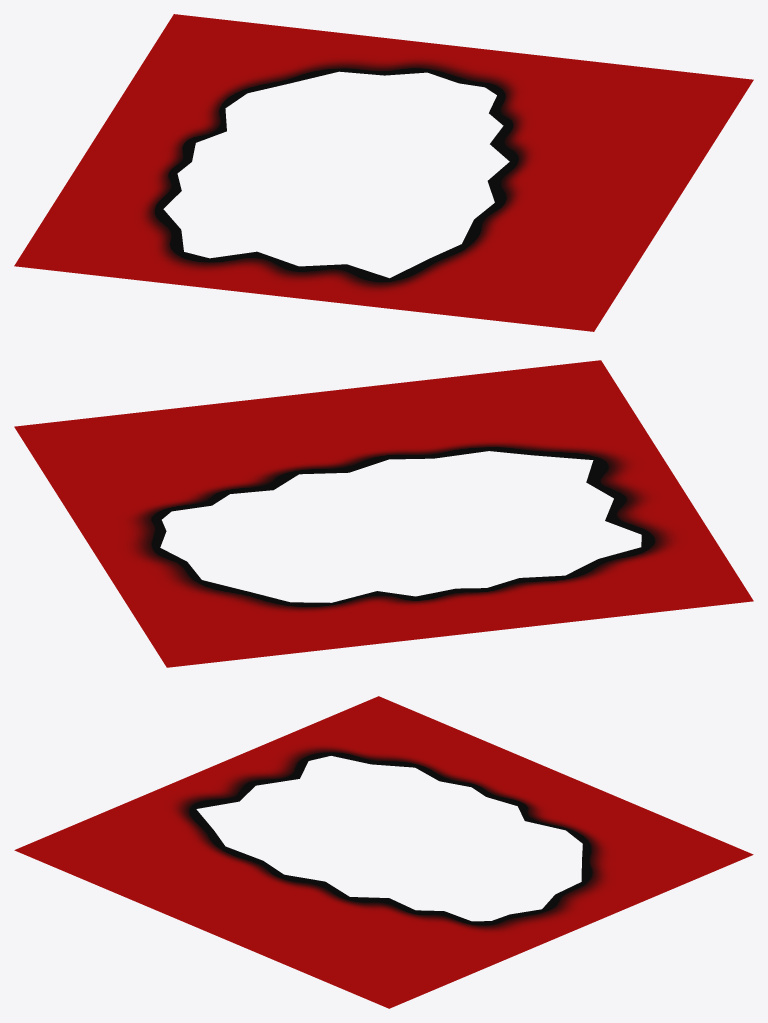
The model's file is Water Edge SDF.fbx.
The picture shows the model from 3 angles, top to bottom: view 1: azimuth 30°, elevation 25°; view 2: azimuth 150°, elevation 25°; view 3: azimuth 270°, elevation 25°; orthographic projection. The views are drawn at different scales.
Visible parts, largest first — view 1: Water Edge SDF; view 2: Water Edge SDF; view 3: Water Edge SDF.
Part boxes in pixels (<box>): Water Edge SDF: <box>14,14,753,331</box>; Water Edge SDF: <box>14,360,753,667</box>; Water Edge SDF: <box>14,696,753,1008</box>.
Bounding box in the file's own units: 201 × 1.78e-14 × 201.
1 material, 1 textured.
